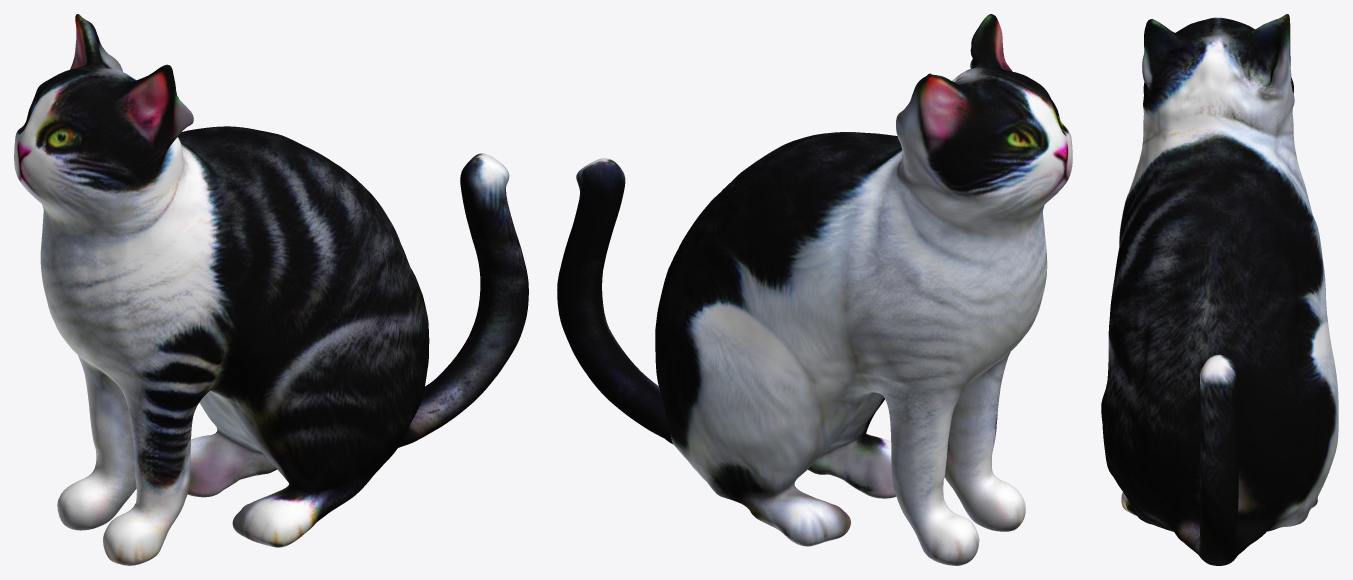
Rendered from cat_blender.gltf.
The picture shows the model from 3 angles, left to right: view 1: azimuth 30°, elevation 25°; view 2: azimuth 150°, elevation 25°; view 3: azimuth 270°, elevation 25°; orthographic projection. The views are drawn at different scales.
Visible parts, largest first — view 1: q; view 2: q; view 3: q.
Part boxes in pixels (x1,y1,x2,y2): q: [14, 14, 528, 565]; q: [557, 14, 1072, 565]; q: [1101, 14, 1338, 565].
Size of the model in its own units: 0.5171 by 0.4866 by 0.2345.
Materials: 1 (1 with a texture image).
